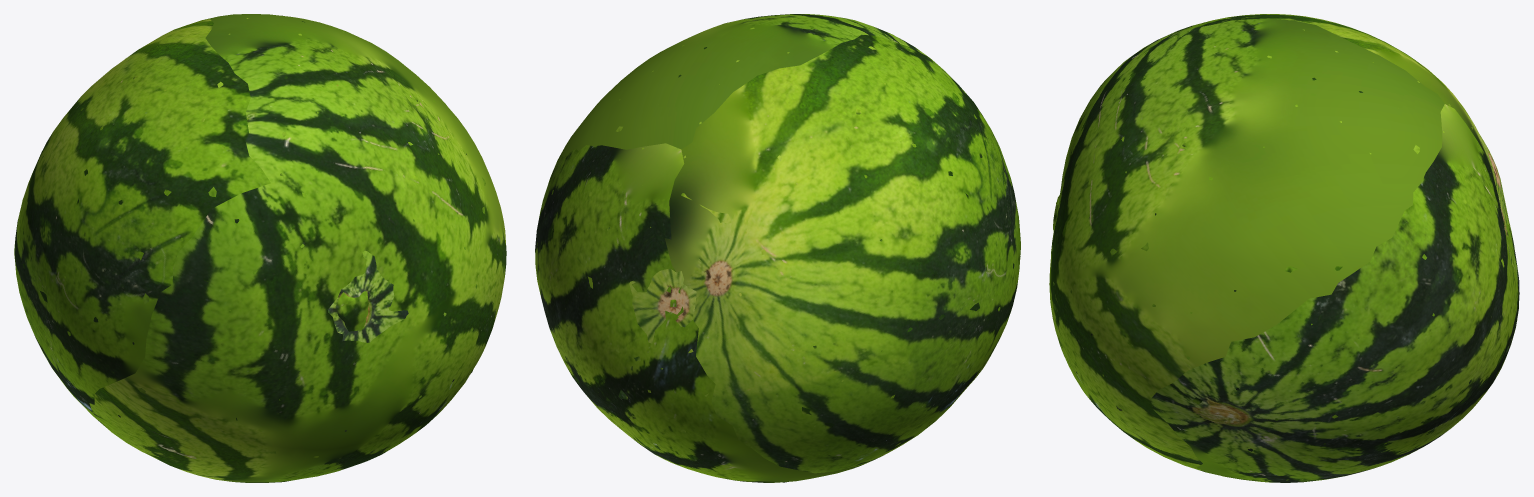
Rendered from 3DMelon001_LQ-1K-JPG.obj.
3 renders of one model, left to right at view 1: azimuth 30°, elevation 25°; view 2: azimuth 150°, elevation 25°; view 3: azimuth 270°, elevation 25°, orthographic.
Visible parts, largest first — view 1: 3DMelon001_LQ-1K-JPG; view 2: 3DMelon001_LQ-1K-JPG; view 3: 3DMelon001_LQ-1K-JPG.
Part boxes in pixels (x1=…): 3DMelon001_LQ-1K-JPG: x1=14, y1=14, x2=506, y2=482; 3DMelon001_LQ-1K-JPG: x1=535, y1=14, x2=1020, y2=482; 3DMelon001_LQ-1K-JPG: x1=1049, y1=14, x2=1519, y2=482.
Size of the model in its own units: 0.2463 by 0.2383 by 0.2409.
Materials: 1 (1 with a texture image).
